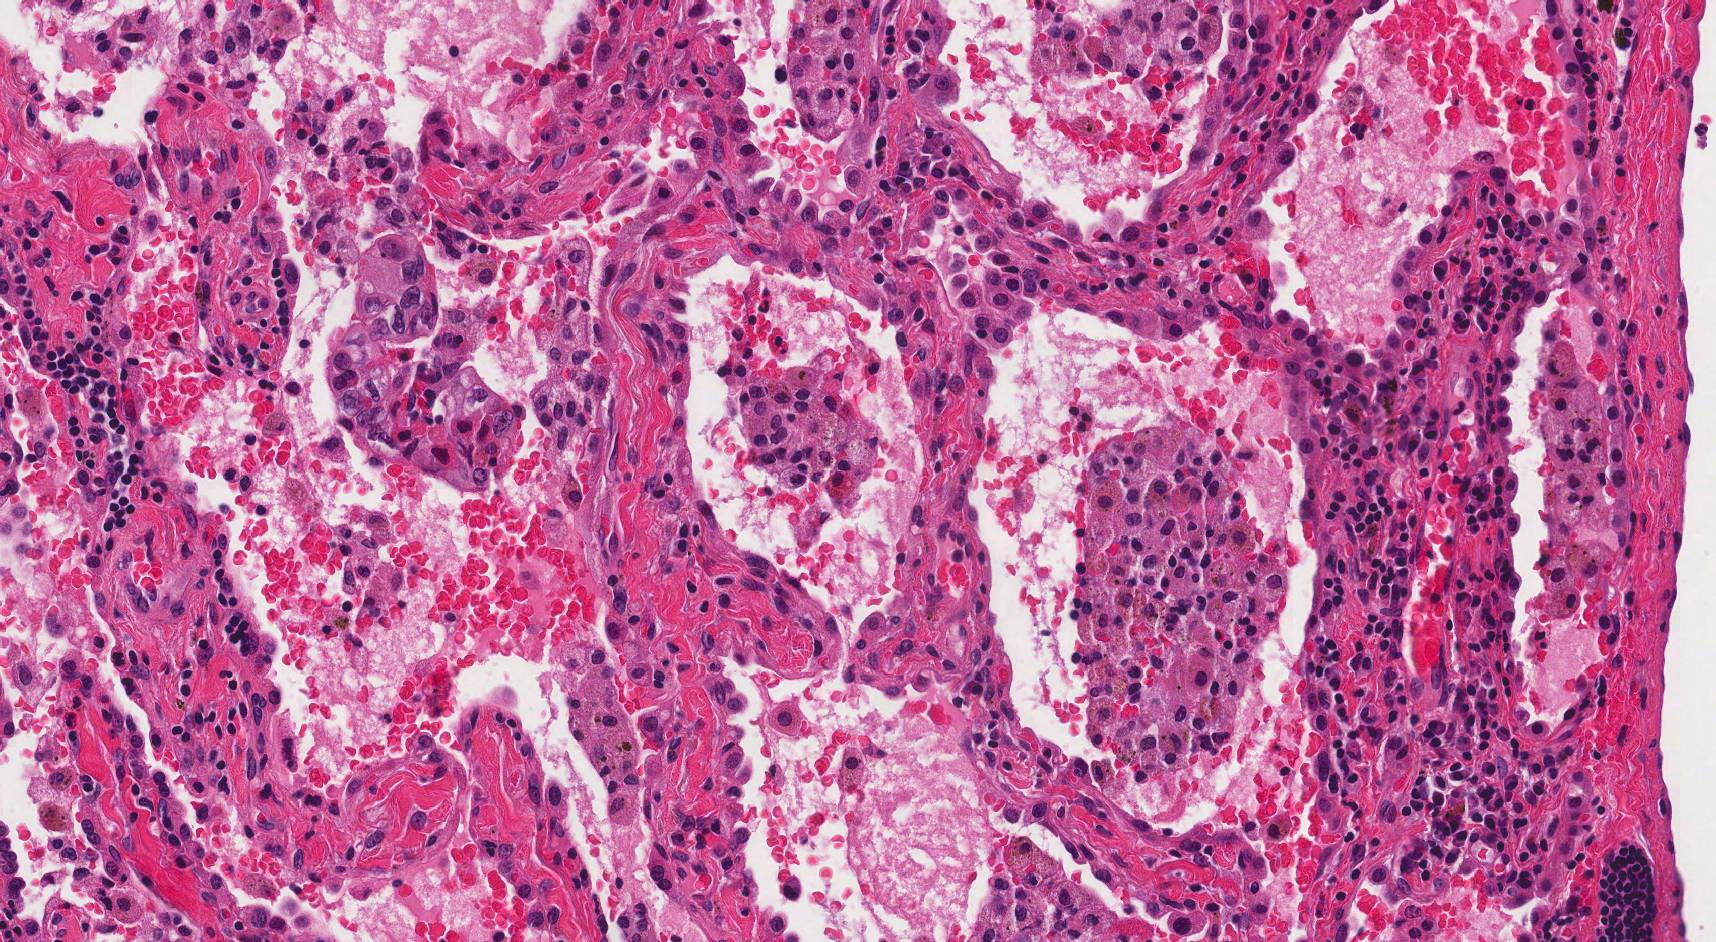stas: (327, 233, 524, 489)
